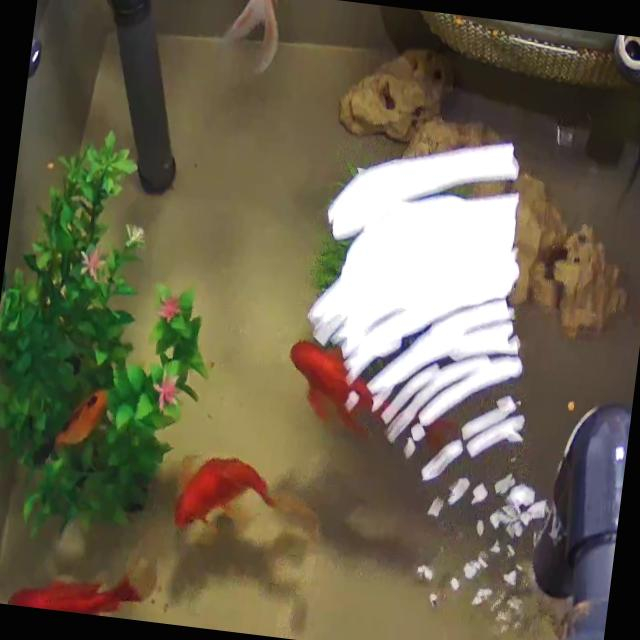fish: (274, 326, 472, 462), (169, 448, 276, 542), (5, 556, 150, 621), (204, 0, 282, 79), (52, 382, 110, 454)
